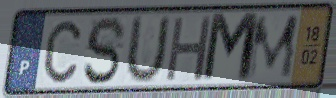C: (42, 18, 83, 86)
H: (163, 13, 215, 84)
M: (199, 10, 262, 86), (244, 12, 301, 82)
S: (81, 14, 128, 88)
U: (122, 13, 173, 87)
